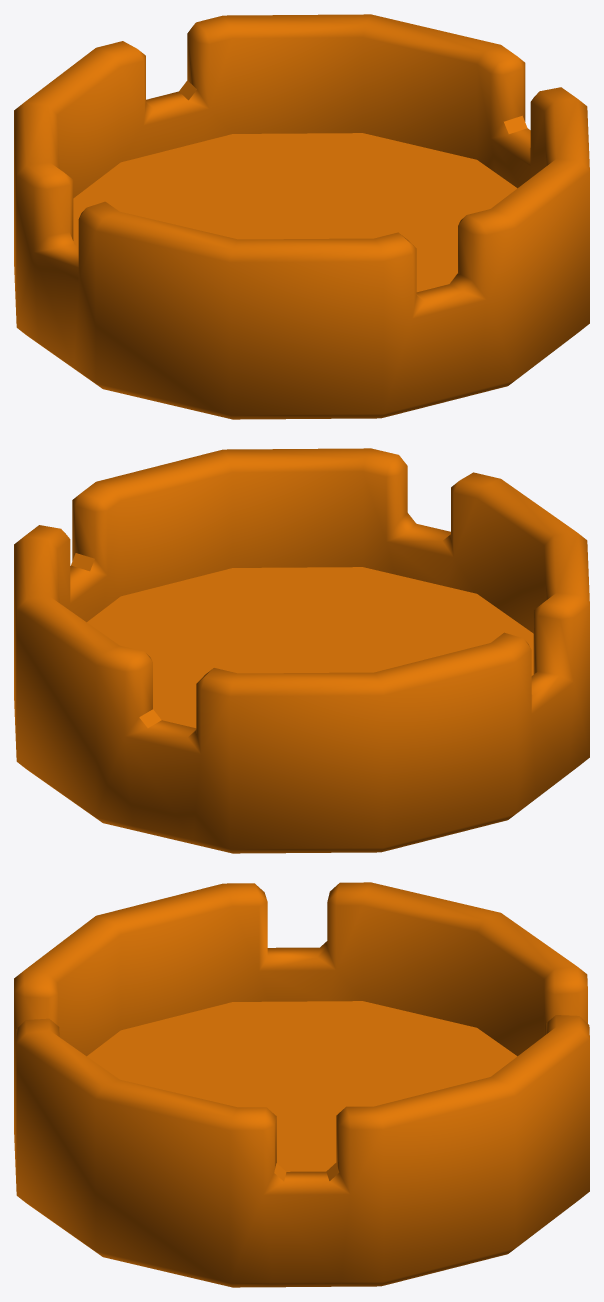
The model's file is SM_Ashtray.fbx.
3 renders of one model, top to bottom at view 1: azimuth 30°, elevation 25°; view 2: azimuth 150°, elevation 25°; view 3: azimuth 270°, elevation 25°, orthographic.
Parts seen in each view (by area): view 1: SM_Ashtray; view 2: SM_Ashtray; view 3: SM_Ashtray.
Boxes of the visible parts, x1,y1,x2,y2 form: SM_Ashtray: (14, 14, 589, 419); SM_Ashtray: (14, 448, 589, 853); SM_Ashtray: (14, 882, 589, 1287).
Size of the model in its own units: 58.24 by 18.98 by 58.24.
